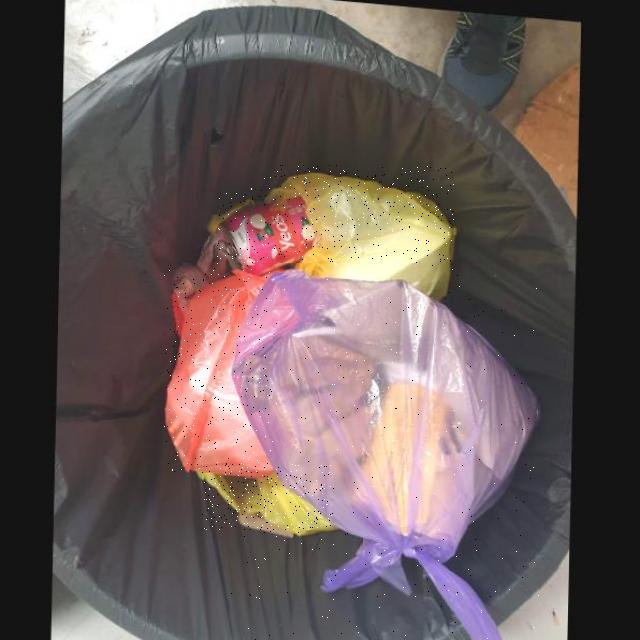metal: (217, 188, 319, 269)
plastic: (230, 263, 539, 640), (262, 165, 454, 291), (165, 264, 273, 472), (202, 464, 334, 529)
